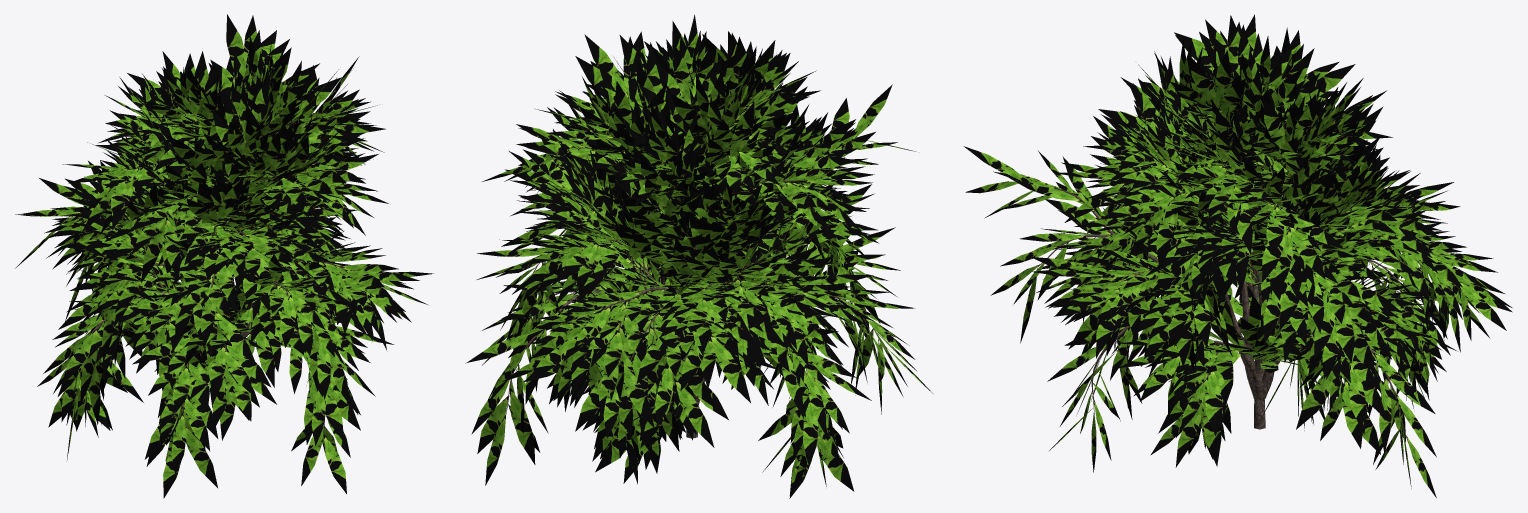
File: arbre3.glb
3 views of the same model, side by side, from view 1: azimuth 30°, elevation 25°; view 2: azimuth 150°, elevation 25°; view 3: azimuth 270°, elevation 25° (orthographic). The views are drawn at different scales.
Size of the model in its own units: 2.02 by 2.29 by 2.72.
2 materials, 2 textured.
